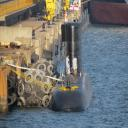submarine: (55, 18, 96, 113)
